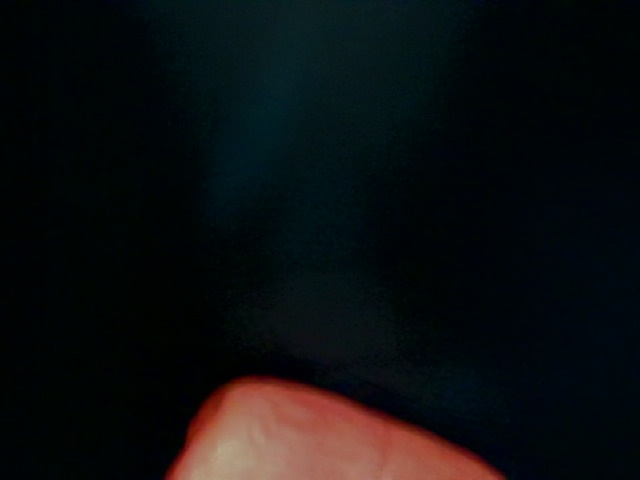YHLJ: (160, 146, 438, 243)
